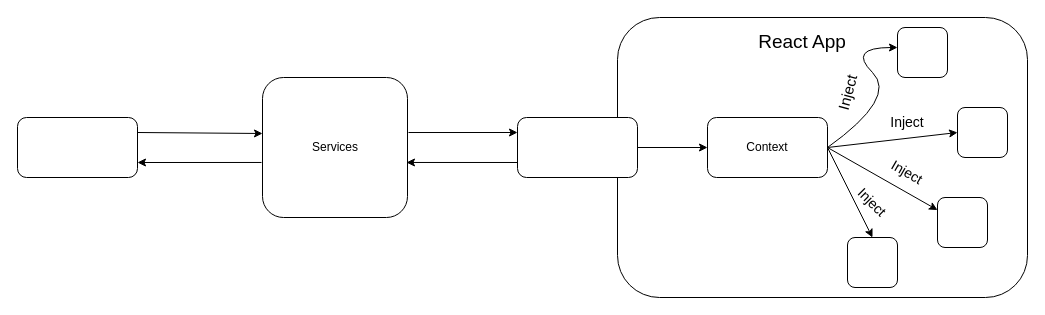
The diagram is 1045 pixels wide and 315 high, and some of its shapes have lost their labels. Each missing label, with the centre of its shape:
Adapter: pixel 577 147
Back-End: pixel 77 147
